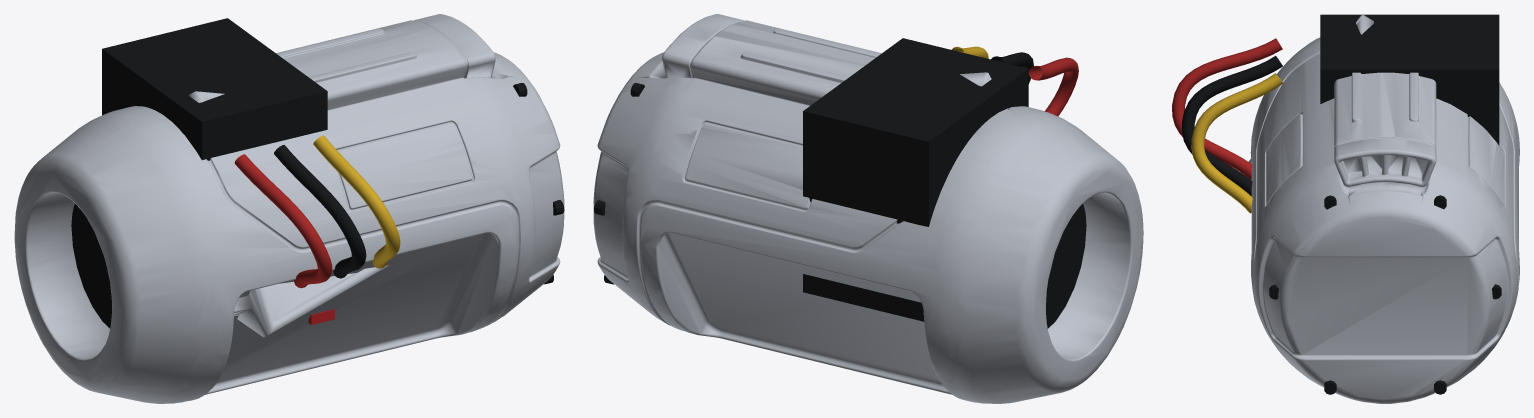
File: right_weapon_pod.obj
3 views of the same model, side by side, from view 1: azimuth 30°, elevation 25°; view 2: azimuth 150°, elevation 25°; view 3: azimuth 270°, elevation 25° (orthographic). The views are drawn at different scales.
Parts seen in each view (by area): view 1: right_weapon_pod_M_silver, right_weapon_pod_M_black, right_weapon_pod_M_cable_r, right_weapon_pod_M_cable_y; view 2: right_weapon_pod_M_silver, right_weapon_pod_M_black, right_weapon_pod_M_cable_r; view 3: right_weapon_pod_M_silver, right_weapon_pod_M_black, right_weapon_pod_M_cable_r, right_weapon_pod_M_cable_y.
Part boxes in pixels (<box>): right_weapon_pod_M_silver: <box>14,14,564,403</box>; right_weapon_pod_M_black: <box>71,18,564,328</box>; right_weapon_pod_M_cable_r: <box>234,154,332,288</box>; right_weapon_pod_M_cable_y: <box>313,135,400,268</box>; right_weapon_pod_M_silver: <box>593,14,1143,403</box>; right_weapon_pod_M_black: <box>594,38,1086,328</box>; right_weapon_pod_M_cable_r: <box>1028,57,1078,116</box>; right_weapon_pod_M_silver: <box>1242,14,1519,403</box>; right_weapon_pod_M_black: <box>1182,14,1501,394</box>; right_weapon_pod_M_cable_r: <box>1172,38,1282,179</box>; right_weapon_pod_M_cable_y: <box>1191,73,1283,213</box>.
Size of the model in its own units: 0.5737 by 0.3673 by 0.4272.
